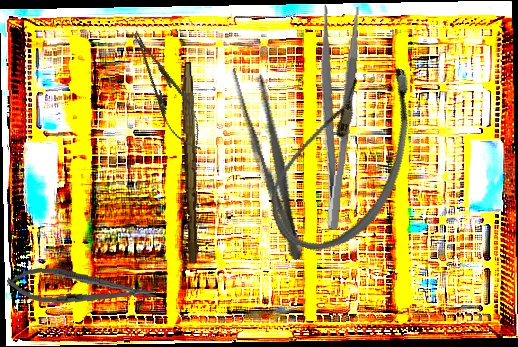Cannula: (256, 41, 435, 270)
Dressing Forceps: (226, 61, 315, 264), (303, 4, 363, 231)
Needle Holder: (120, 22, 213, 159), (5, 263, 158, 314)
Scalpel Handle: (176, 61, 203, 264)
